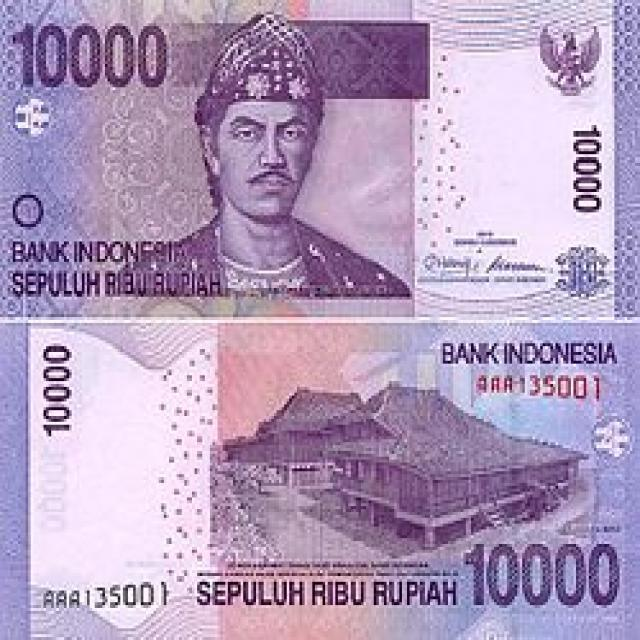sepuluh ribu rupiah: (0, 325, 640, 640), (5, 4, 640, 318)
